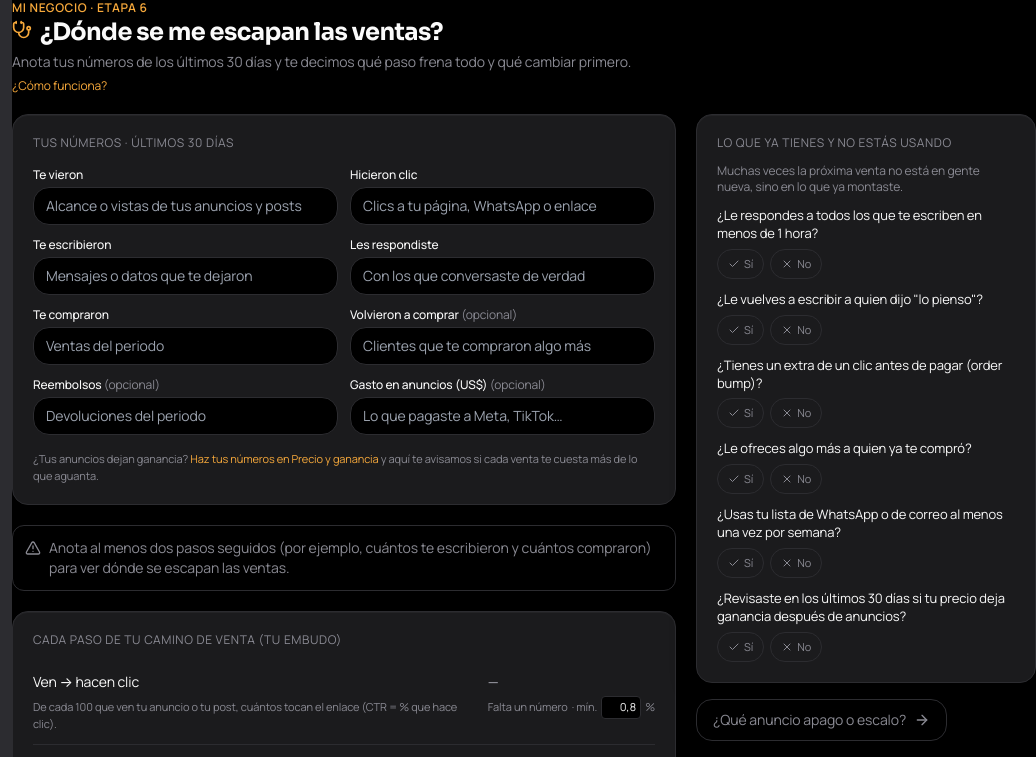
Test: DiagnosticoPage › el caso de Brez: dice que el freno es responder y que más anuncios no lo arreglan, sin gastar IA
Later steps or results of the test are not shown.
Type "100.000" into the field labelled "Te vieron". click: point(186, 206)
box: top-left (33, 187), bottom-right (338, 225)
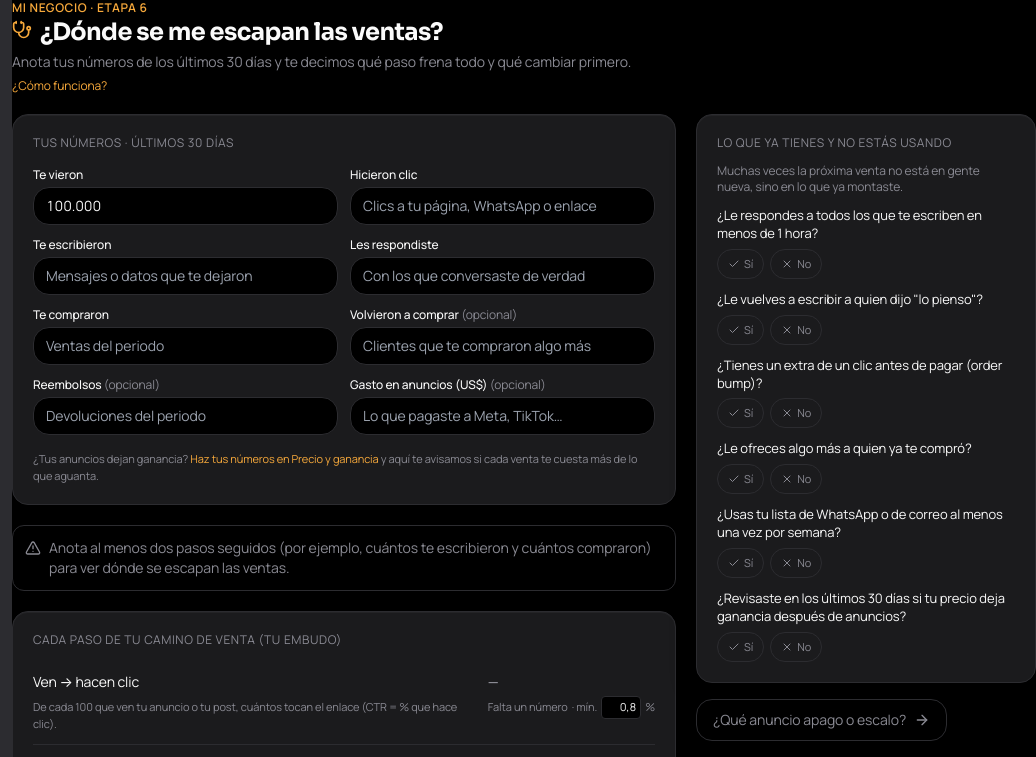
Type "2.000" into the field labelled "Hicieron clic". click: point(502, 206)
box: top-left (350, 187), bottom-right (655, 225)
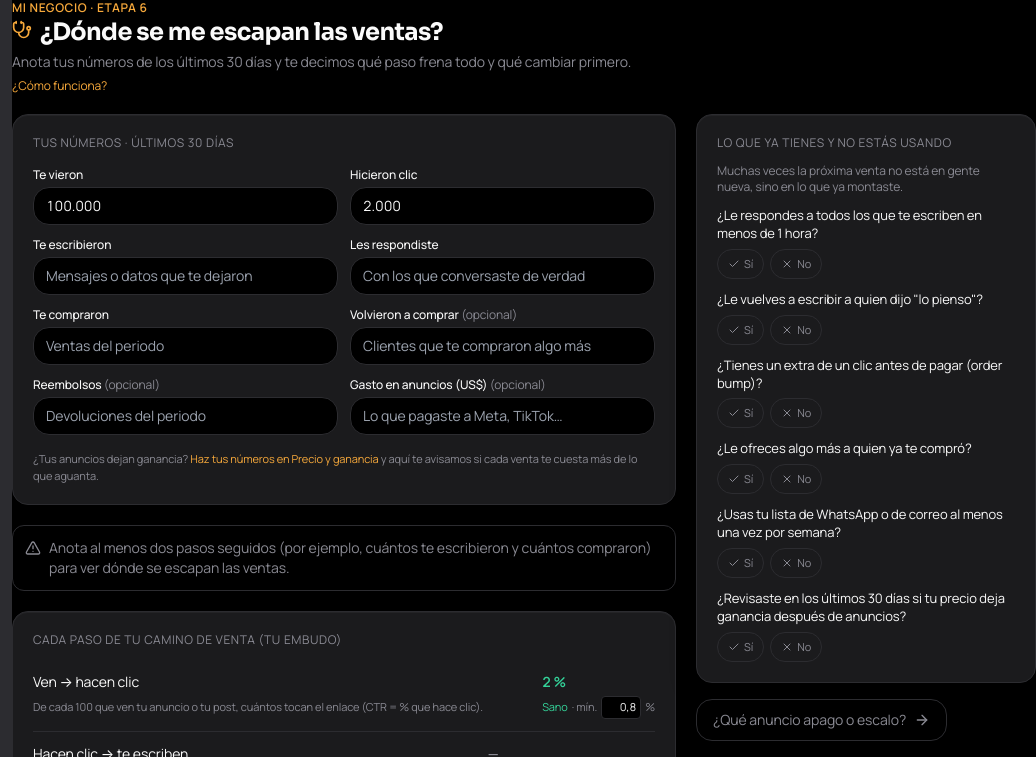
Type "400" into the field labelled "Te escribieron". click: point(186, 276)
box: top-left (33, 257), bottom-right (338, 295)
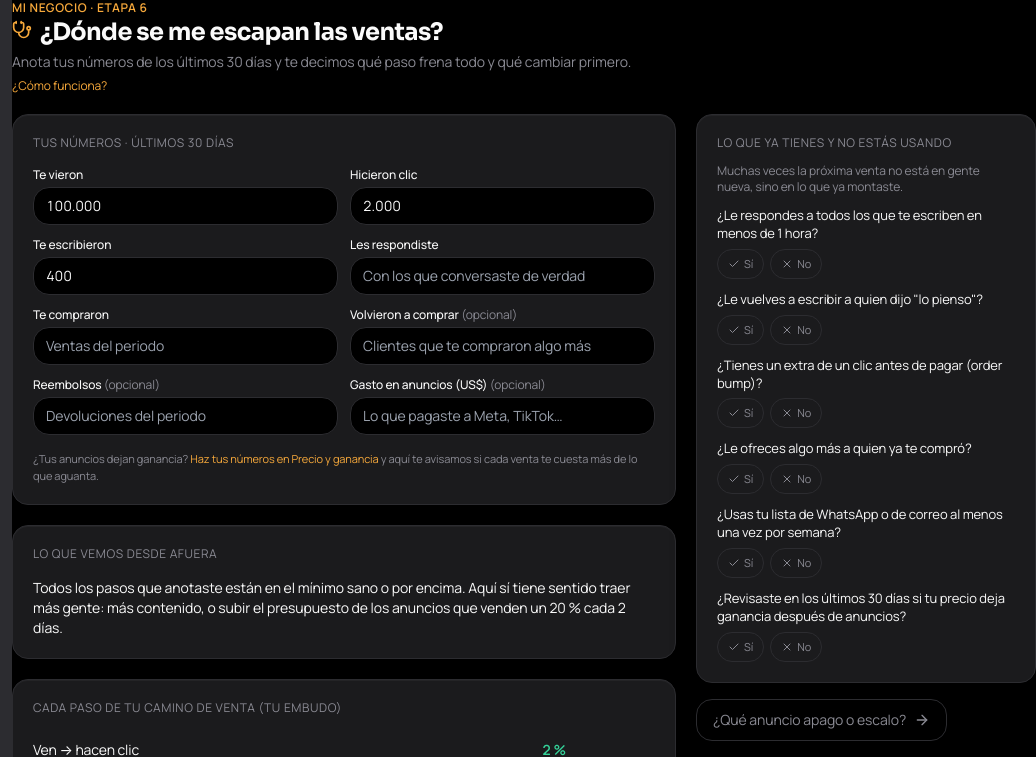
Type "88" into the field labelled "Les respondiste". click: point(502, 276)
box: top-left (350, 257), bottom-right (655, 295)
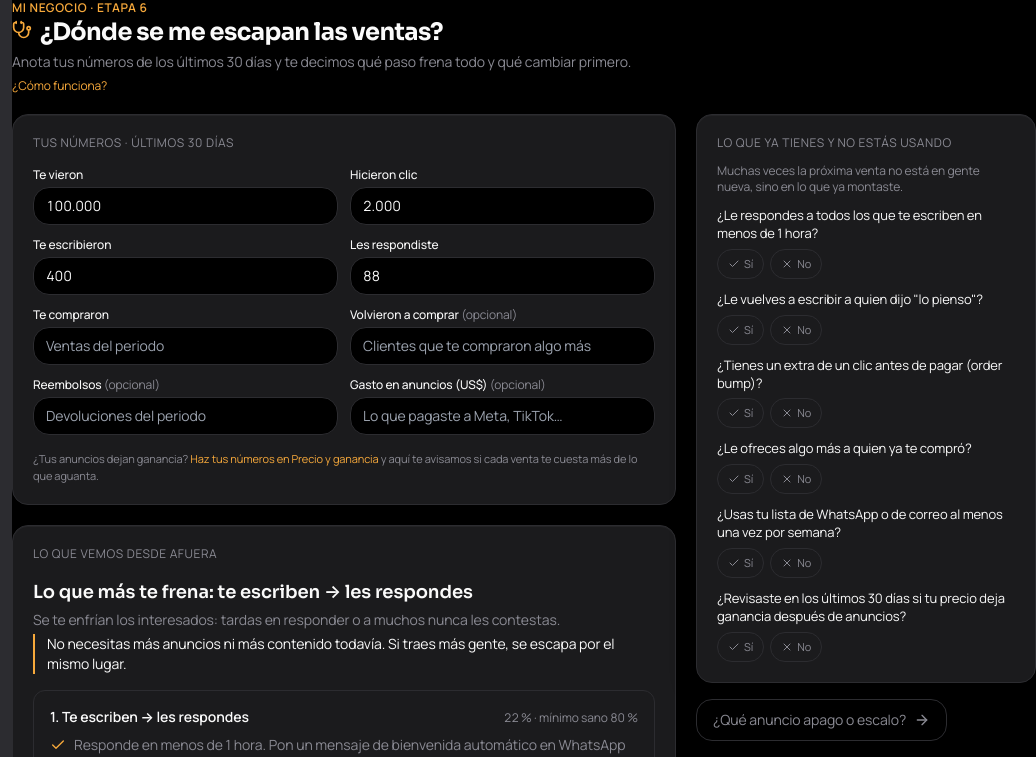
Type "9" into the field labelled "Te compraron". click: point(186, 346)
box: top-left (33, 327), bottom-right (338, 365)
(page scrolled)
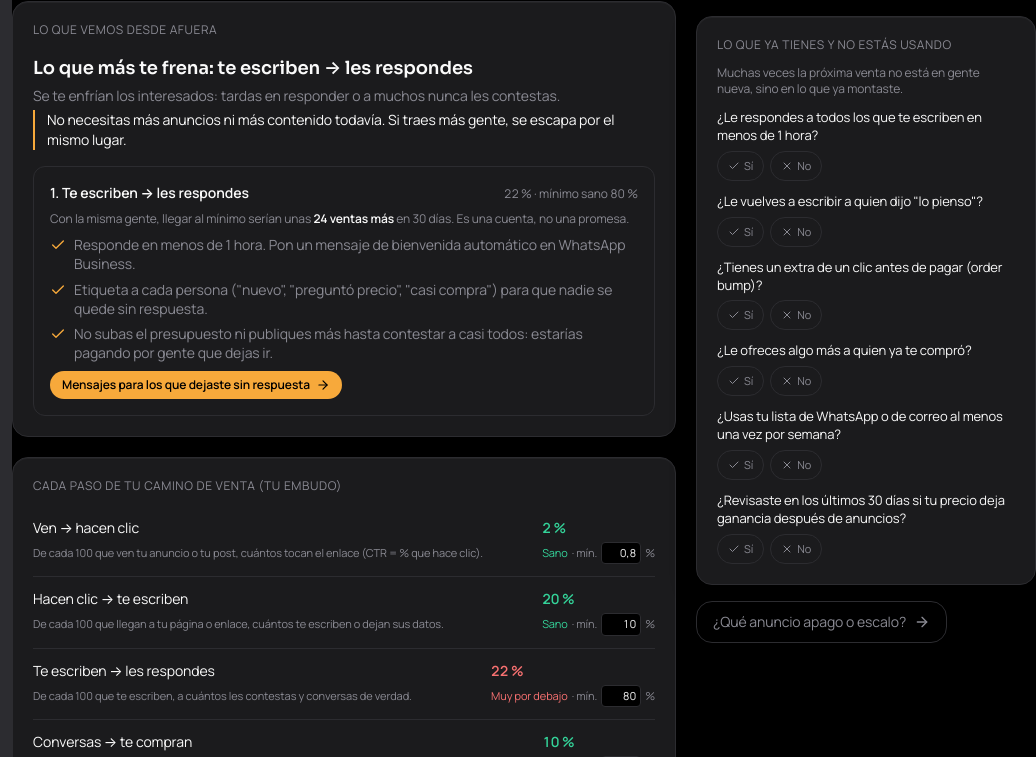
Now the text "Lo que más te frena: te escriben → les respondes" is shown, box top-left (33, 57), bottom-right (473, 79)
Now the text "No necesitas más anuncios ni más contenido todavía" is shown, box top-left (47, 110), bottom-right (614, 149)
Now the text "22 %" is shown, box top-left (491, 660), bottom-right (524, 680)
